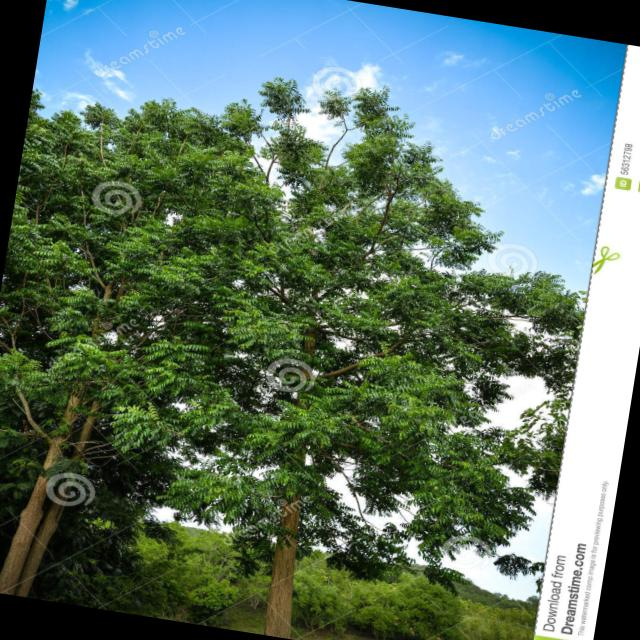Medicinal-Neem: (340, 270, 555, 550), (220, 48, 484, 250)
